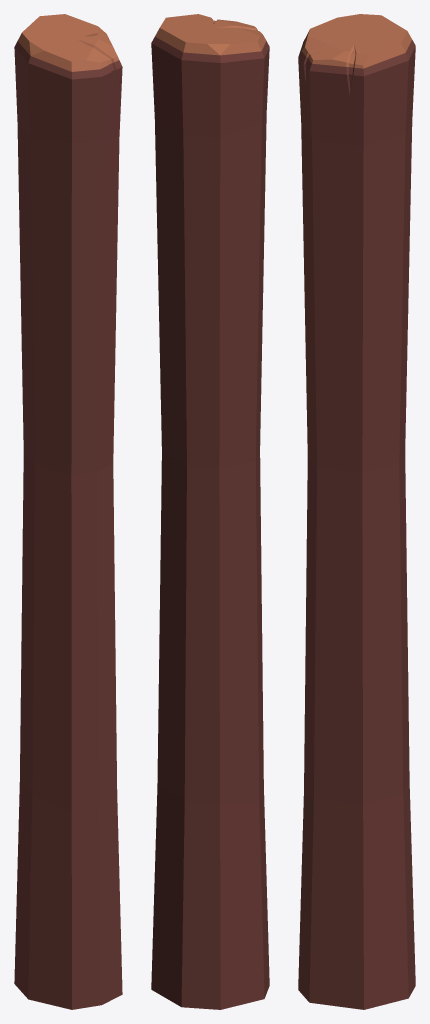
Rendered from Wooden Pole Blunt 09.fbx.
3 views of the same model, side by side, from view 1: azimuth 90°, elevation 25°; view 2: azimuth 150°, elevation 25°; view 3: azimuth 330°, elevation 25° (orthographic).
Parts seen in each view (by area): view 1: Wooden Pole Blunt 09; view 2: Wooden Pole Blunt 09; view 3: Wooden Pole Blunt 09.
Part boxes in pixels (x1,y1,x2,y2): Wooden Pole Blunt 09: [14, 14, 122, 1009]; Wooden Pole Blunt 09: [151, 14, 269, 1009]; Wooden Pole Blunt 09: [298, 14, 415, 1009].
Bounding box in the file's own units: 30.64 × 275 × 28.35.
